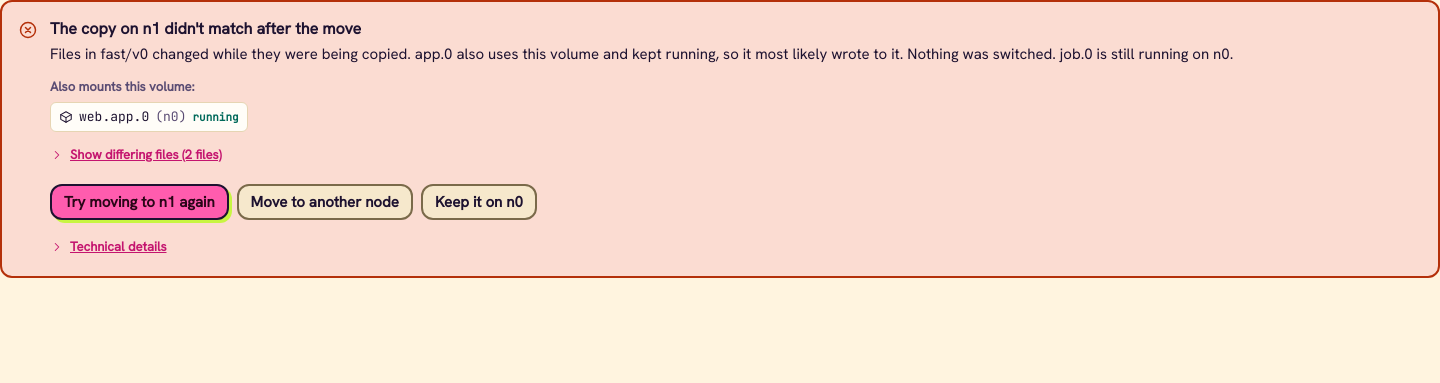
Test case: MigrationProblem › keeps the changed-file list collapsed until toggled
This screenshot has width=1440, height=383.
Check: the text "apps/activity/l10n/fr.json" is not shown
Click the button "Show differing files (2 files)": (136, 155) [50,144,222,166]
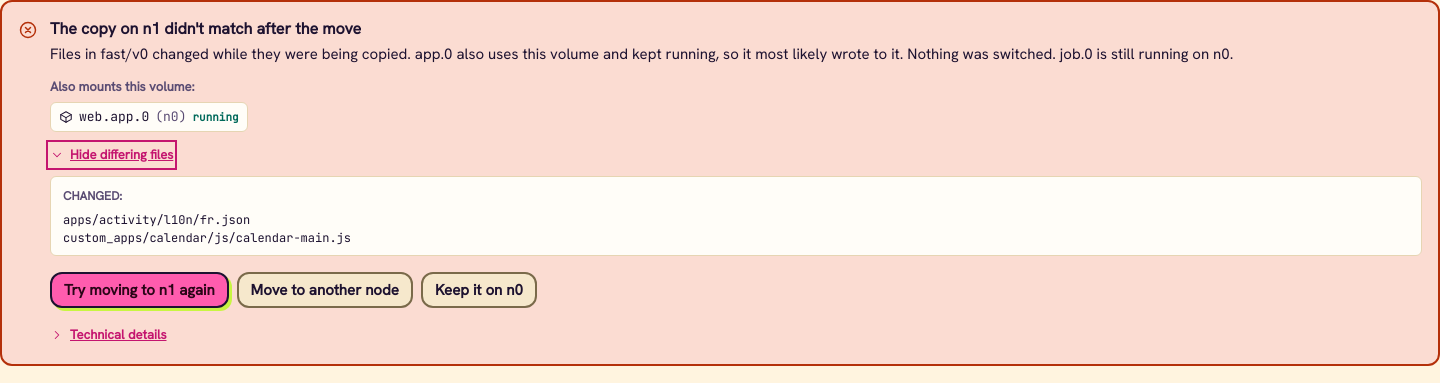
Check: the list item "apps/activity/l10n/fr.json" is shown, box [63,212,250,228]
Check: the list item "custom_apps/calendar/js/calendar-main.js" is shown, box [63,230,351,246]
Click the button "Hide differing files": (112, 155) [50,144,173,166]
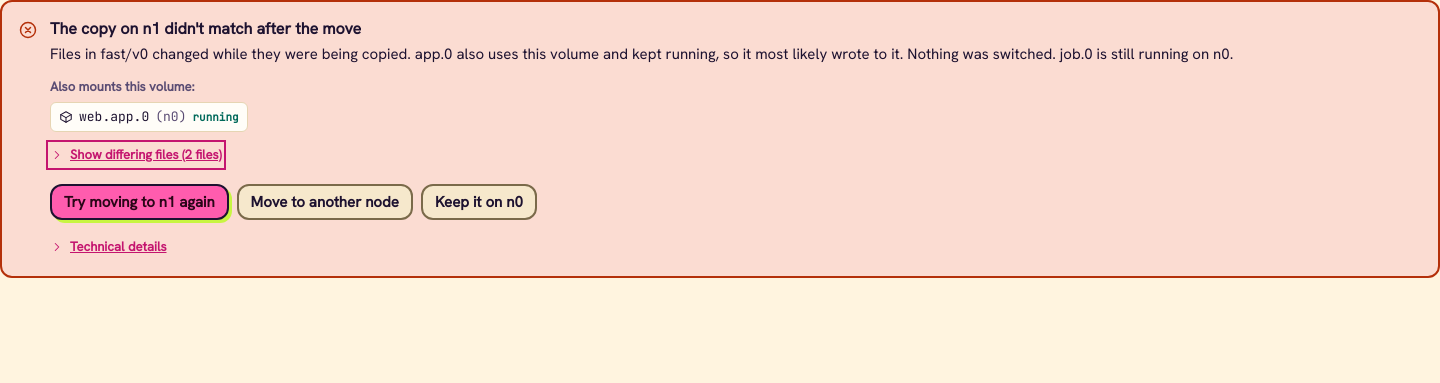
Check: the list item "apps/activity/l10n/fr.json" is gone
